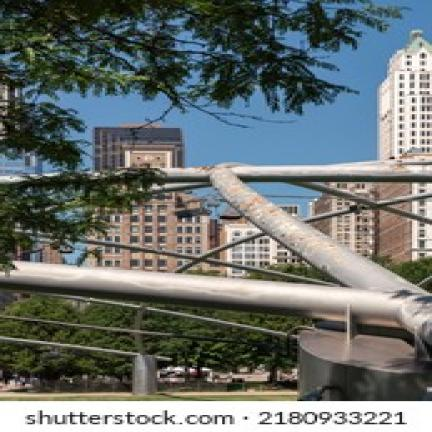besi_tidak_karat: (0, 263, 431, 344), (210, 166, 424, 294), (163, 159, 431, 185)
